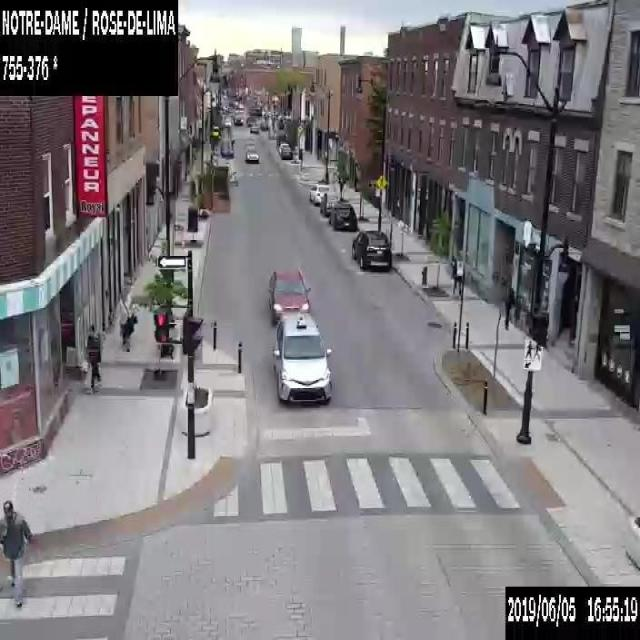pedestrian: (0, 498, 34, 606), (84, 323, 103, 393), (116, 286, 136, 352)
vehicle: (271, 312, 332, 403), (268, 270, 310, 324), (351, 229, 391, 271), (328, 201, 356, 231), (319, 191, 339, 216), (309, 182, 330, 204), (279, 146, 292, 159), (245, 149, 258, 162), (232, 109, 242, 125), (278, 142, 289, 154), (220, 148, 232, 156), (249, 123, 258, 132), (244, 141, 254, 149), (224, 117, 231, 126)
